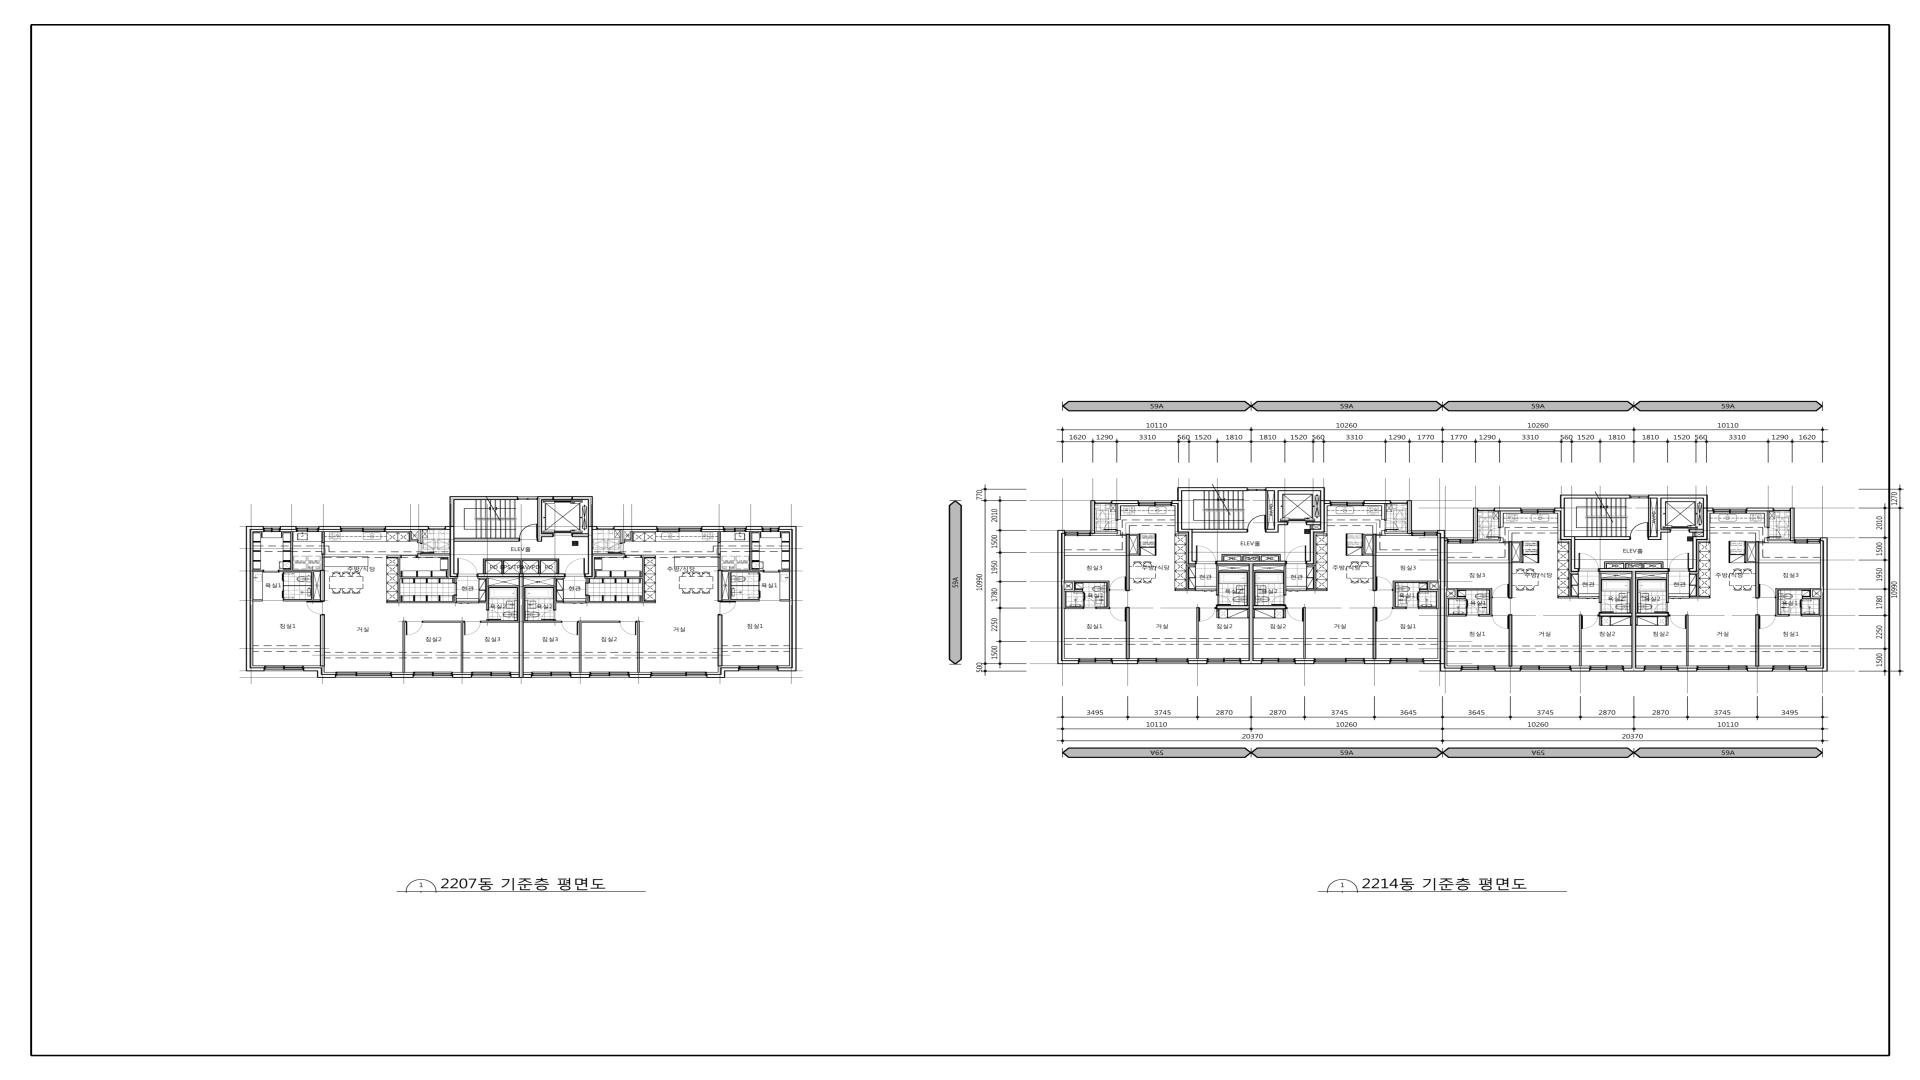door: (1286, 545, 1307, 564), (564, 558, 585, 578), (458, 558, 479, 578), (1196, 545, 1216, 564), (1578, 553, 1598, 571), (1669, 553, 1689, 571), (518, 524, 538, 542), (1199, 607, 1216, 622), (1109, 607, 1126, 622), (405, 621, 423, 636), (560, 621, 579, 636), (717, 601, 736, 616), (1759, 584, 1776, 599), (1759, 615, 1776, 629), (1669, 615, 1687, 629), (1581, 615, 1598, 629), (1286, 607, 1303, 621), (1109, 576, 1126, 591), (464, 621, 481, 636), (620, 621, 637, 636), (306, 601, 324, 615), (1493, 615, 1509, 629), (1377, 607, 1393, 621), (1493, 584, 1509, 599), (1377, 576, 1393, 591), (1598, 601, 1614, 613), (1788, 605, 1803, 617), (1465, 605, 1480, 617), (1083, 597, 1097, 609), (1216, 595, 1232, 605), (1654, 603, 1669, 613), (541, 609, 556, 620), (1406, 597, 1419, 609), (1104, 520, 1118, 530), (1385, 520, 1399, 530), (1486, 527, 1501, 538), (1767, 527, 1782, 538), (1271, 595, 1286, 605), (419, 543, 434, 554), (487, 609, 501, 620), (608, 543, 622, 554), (282, 589, 294, 599), (748, 589, 760, 599), (282, 574, 294, 582), (748, 574, 760, 582), (563, 601, 585, 604), (1286, 588, 1307, 591), (1195, 588, 1216, 591), (1668, 596, 1689, 599), (1578, 596, 1600, 599), (717, 542, 721, 555), (262, 570, 280, 572), (401, 555, 418, 558), (625, 555, 642, 558), (764, 570, 779, 572), (322, 542, 324, 555), (456, 601, 479, 603)
wall: (791, 530, 796, 671), (245, 530, 251, 667), (1822, 541, 1828, 667), (1440, 538, 1445, 663), (518, 578, 524, 678), (1249, 564, 1254, 661), (1631, 572, 1636, 667), (1058, 534, 1062, 661), (1598, 568, 1669, 572), (1216, 560, 1287, 564), (1560, 495, 1630, 498), (717, 616, 723, 666), (455, 496, 518, 500), (455, 538, 518, 542), (450, 526, 455, 574), (588, 526, 593, 574), (1320, 487, 1325, 533), (1648, 495, 1708, 498), (1509, 541, 1513, 599), (1755, 541, 1759, 599), (1126, 534, 1130, 591), (1373, 534, 1377, 591), (537, 496, 593, 500), (537, 500, 542, 542), (1656, 498, 1662, 539), (1702, 498, 1708, 539), (1126, 607, 1130, 659), (1373, 607, 1377, 659), (1755, 615, 1759, 667), (1509, 615, 1513, 667), (1575, 537, 1626, 541), (320, 615, 324, 666), (1192, 529, 1244, 533), (1274, 491, 1279, 529), (1178, 488, 1247, 491), (1407, 500, 1412, 534), (1789, 508, 1795, 541), (1473, 508, 1478, 541), (385, 526, 429, 530), (717, 570, 723, 601), (615, 526, 657, 530), (479, 574, 520, 578), (524, 574, 564, 578), (450, 496, 455, 526), (1221, 554, 1280, 556), (1560, 512, 1565, 539), (1571, 541, 1576, 568), (1309, 533, 1315, 560), (1266, 488, 1320, 491), (588, 500, 593, 526), (1196, 607, 1199, 658), (1303, 607, 1305, 658), (1578, 615, 1581, 666), (1091, 500, 1095, 534), (402, 622, 405, 673), (460, 622, 463, 673), (579, 622, 582, 673), (637, 622, 640, 673), (1216, 605, 1249, 609), (1636, 613, 1669, 617), (1598, 613, 1631, 617), (400, 576, 448, 579), (1254, 605, 1286, 609), (320, 570, 324, 601), (595, 576, 642, 579), (1178, 504, 1182, 533), (1693, 541, 1697, 568), (1188, 533, 1192, 560), (280, 570, 320, 572), (723, 570, 764, 572), (1747, 508, 1774, 512), (1494, 508, 1520, 512), (1364, 500, 1390, 504), (1112, 500, 1138, 504), (1112, 661, 1138, 665), (1266, 491, 1269, 529), (1648, 498, 1651, 537), (290, 531, 293, 570), (483, 559, 559, 560), (1747, 667, 1772, 671), (1495, 667, 1520, 671), (1365, 661, 1390, 665), (284, 599, 320, 601), (723, 599, 760, 601), (1393, 580, 1428, 583), (1075, 580, 1109, 583), (388, 601, 456, 603), (588, 601, 655, 603), (702, 526, 724, 530), (1623, 667, 1644, 671), (1807, 667, 1828, 671), (629, 674, 650, 678), (392, 674, 413, 678), (487, 578, 489, 609), (554, 578, 556, 609), (319, 526, 340, 530), (1241, 661, 1262, 665), (1058, 661, 1079, 665), (1218, 570, 1249, 572), (1188, 661, 1208, 665), (1283, 566, 1286, 595), (1216, 566, 1218, 595), (1605, 562, 1663, 563), (1679, 667, 1697, 671), (1571, 667, 1589, 671), (720, 667, 738, 671), (707, 674, 725, 678), (571, 674, 589, 678), (452, 674, 471, 678), (303, 667, 322, 671), (245, 667, 264, 671), (245, 526, 264, 530), (1295, 661, 1313, 665), (1490, 589, 1493, 616), (311, 572, 314, 599), (728, 572, 731, 599), (1687, 615, 1688, 666), (318, 674, 335, 678), (779, 526, 796, 530), (1313, 566, 1316, 589), (1393, 583, 1395, 607), (1445, 667, 1461, 671), (1424, 661, 1440, 665), (572, 533, 588, 537), (717, 554, 721, 570), (281, 526, 297, 530), (746, 526, 762, 530), (642, 555, 644, 601), (1185, 566, 1188, 588), (398, 558, 400, 601), (1305, 521, 1320, 525), (1307, 588, 1328, 591), (1137, 534, 1139, 555), (1095, 531, 1116, 534), (1689, 596, 1710, 599), (1557, 596, 1578, 599), (1386, 531, 1407, 534), (423, 621, 464, 622), (579, 621, 620, 622), (1689, 529, 1702, 533), (1175, 588, 1195, 591), (1362, 535, 1365, 555), (778, 667, 791, 671), (1266, 529, 1279, 533), (481, 621, 520, 622), (750, 531, 752, 570), (1560, 498, 1565, 508), (1436, 591, 1439, 609), (524, 621, 560, 622), (1457, 588, 1493, 589), (542, 533, 554, 537), (518, 585, 520, 621), (524, 585, 525, 621), (1776, 588, 1811, 589), (1630, 579, 1631, 613), (1065, 607, 1083, 609), (1419, 607, 1436, 609), (1447, 599, 1449, 616), (1247, 572, 1249, 605), (1555, 508, 1565, 512), (1440, 663, 1445, 671), (1116, 504, 1118, 520), (1498, 512, 1501, 527), (322, 554, 324, 570), (1309, 529, 1320, 533), (1182, 529, 1192, 533), (1767, 512, 1770, 527), (1601, 578, 1631, 579), (1636, 578, 1667, 579), (1667, 572, 1668, 603), (592, 554, 622, 555), (1254, 570, 1283, 571), (489, 585, 518, 587), (525, 585, 554, 587), (1662, 529, 1671, 533), (1693, 537, 1702, 541), (1565, 537, 1575, 541), (1600, 574, 1601, 601), (510, 674, 520, 678), (1279, 521, 1288, 525), (1172, 500, 1182, 504), (1178, 491, 1182, 500), (1393, 607, 1406, 609), (419, 530, 422, 543), (620, 530, 622, 543), (388, 555, 401, 558), (556, 560, 559, 574), (538, 560, 541, 574), (520, 560, 522, 574), (501, 560, 504, 574), (483, 560, 485, 574), (1776, 589, 1778, 615), (1648, 537, 1656, 541), (1689, 568, 1697, 572), (1820, 538, 1828, 542), (1571, 568, 1578, 572), (1437, 530, 1445, 534), (1097, 607, 1109, 609), (1108, 583, 1109, 607), (1697, 572, 1698, 596), (1569, 572, 1571, 596), (524, 674, 531, 678), (450, 574, 458, 578), (1307, 560, 1315, 564), (1188, 560, 1196, 564), (1478, 539, 1501, 541), (1746, 541, 1747, 563), (1064, 580, 1075, 583), (1428, 580, 1439, 583), (322, 531, 324, 542), (252, 570, 262, 572), (645, 555, 655, 558), (717, 531, 720, 542), (779, 599, 790, 601), (779, 570, 790, 572), (1520, 543, 1522, 563), (585, 574, 592, 578), (1058, 530, 1064, 534), (1770, 539, 1789, 541), (1811, 589, 1813, 599), (1216, 609, 1218, 618), (1064, 591, 1065, 609), (1513, 541, 1522, 543), (409, 531, 411, 541), (1803, 615, 1820, 616), (1820, 599, 1821, 616), (1448, 615, 1465, 616), (1747, 541, 1755, 543), (1708, 508, 1713, 512), (1440, 534, 1445, 538), (1385, 504, 1386, 520), (1513, 560, 1520, 563), (1455, 589, 1457, 597), (630, 531, 633, 539), (1325, 500, 1331, 504), (1747, 560, 1755, 563), (1072, 583, 1075, 589), (585, 596, 588, 603), (1776, 615, 1788, 616), (1316, 534, 1328, 535), (1175, 534, 1187, 535), (446, 526, 450, 530), (520, 574, 524, 578), (593, 526, 597, 530), (1811, 588, 1821, 589), (1064, 589, 1075, 591), (1503, 541, 1509, 543), (1447, 588, 1457, 589), (1447, 597, 1457, 599), (1480, 615, 1490, 616), (1660, 563, 1663, 568), (1642, 563, 1644, 568), (1623, 563, 1626, 568), (1605, 563, 1607, 568), (720, 671, 725, 674), (316, 671, 322, 674), (454, 596, 456, 601), (454, 578, 456, 583), (585, 578, 588, 583), (1759, 541, 1764, 543), (1801, 597, 1811, 599), (1429, 589, 1439, 591), (1364, 534, 1373, 535), (1284, 609, 1286, 618), (282, 582, 284, 591), (624, 539, 633, 541), (758, 582, 760, 591), (1813, 597, 1821, 599), (1221, 556, 1224, 560), (1689, 572, 1697, 574), (1693, 533, 1696, 537), (1571, 572, 1578, 574), (1116, 530, 1118, 534), (1075, 589, 1083, 591), (1278, 556, 1280, 560), (1259, 556, 1262, 560), (1241, 556, 1244, 560), (1309, 525, 1312, 529), (1457, 597, 1465, 599), (1600, 617, 1601, 625), (1428, 583, 1429, 591), (1420, 589, 1428, 591), (1365, 554, 1373, 555), (1188, 566, 1196, 567), (1667, 617, 1668, 625), (479, 601, 487, 603), (1307, 566, 1313, 567), (1130, 554, 1137, 555), (1130, 534, 1137, 535), (1120, 534, 1126, 535), (411, 539, 418, 541), (556, 601, 563, 603), (1445, 538, 1448, 541), (1377, 534, 1382, 535), (1767, 538, 1770, 541), (1385, 530, 1386, 534), (1498, 538, 1501, 539), (402, 621, 405, 622), (554, 620, 556, 621), (637, 621, 640, 622), (487, 620, 488, 621), (1636, 579, 1636, 613), (1254, 571, 1254, 605), (284, 585, 311, 585), (732, 585, 758, 585)
window: (650, 671, 707, 678), (335, 671, 392, 678), (1313, 658, 1365, 665), (1138, 658, 1188, 665), (471, 671, 512, 678), (1697, 666, 1747, 671), (1520, 666, 1571, 671), (589, 671, 629, 678), (531, 671, 571, 678), (413, 671, 452, 678), (340, 526, 385, 531), (657, 526, 702, 531), (1207, 658, 1241, 665), (1138, 500, 1172, 506), (1331, 500, 1364, 506), (738, 666, 778, 671), (264, 666, 303, 671), (1390, 658, 1424, 663), (1461, 666, 1495, 671), (1589, 666, 1623, 671), (1644, 666, 1679, 671), (1772, 666, 1807, 671), (1713, 508, 1747, 513), (1520, 508, 1555, 513), (1079, 658, 1112, 663), (1262, 658, 1295, 663), (1064, 530, 1091, 537), (1411, 530, 1437, 535), (1448, 538, 1473, 543), (1795, 538, 1820, 543), (297, 526, 319, 531), (724, 526, 746, 531), (264, 526, 281, 531), (762, 526, 779, 531), (517, 496, 537, 500), (1630, 495, 1648, 498), (1095, 500, 1112, 504), (1390, 500, 1407, 504), (1774, 508, 1791, 512), (429, 526, 446, 530), (597, 526, 615, 530), (1478, 508, 1494, 512), (1247, 488, 1266, 491)
